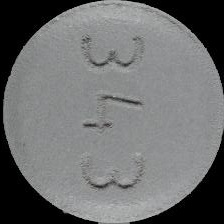63187-393: (0, 0, 224, 224)
